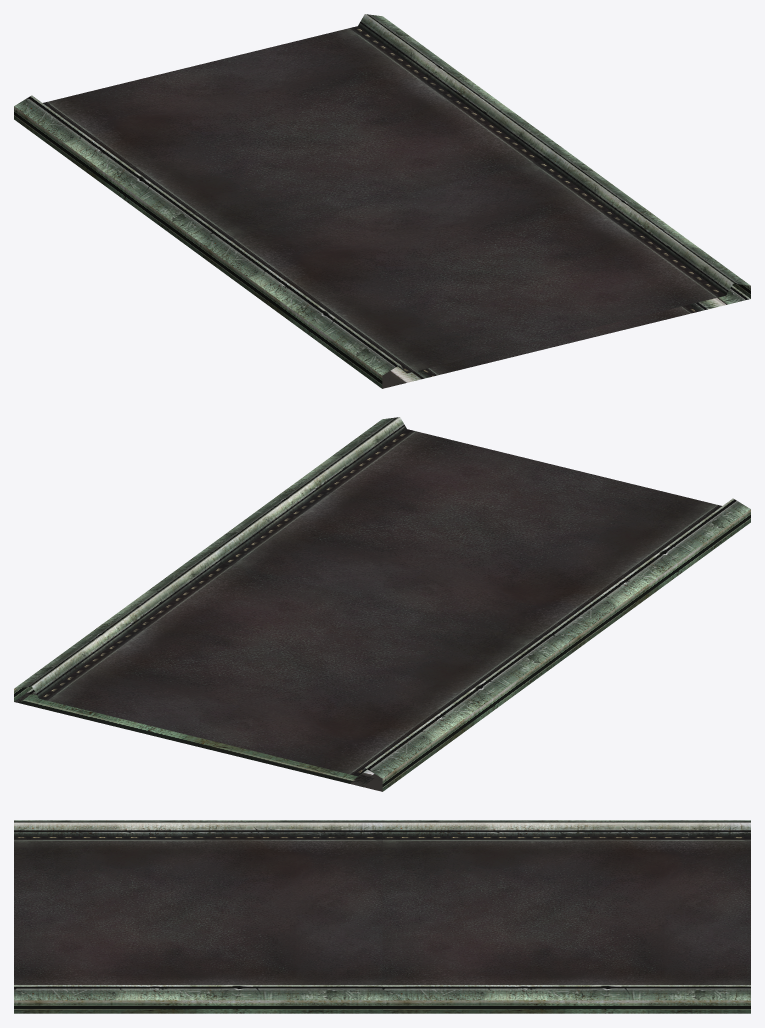
Rendered from Road_Simple.fbx.
3 renders of one model, top to bottom at view 1: azimuth 30°, elevation 25°; view 2: azimuth 150°, elevation 25°; view 3: azimuth 270°, elevation 25°, orthographic.
Visible parts, largest first — view 1: Road_simple; view 2: Road_simple; view 3: Road_simple.
Boxes of the visible parts, x1=… form: Road_simple: x1=14, y1=14, x2=750, y2=388; Road_simple: x1=14, y1=417, x2=750, y2=791; Road_simple: x1=14, y1=820, x2=750, y2=1013.
Size of what is drawn, in the model's own units: 18.5 by 0.9472 by 32.
